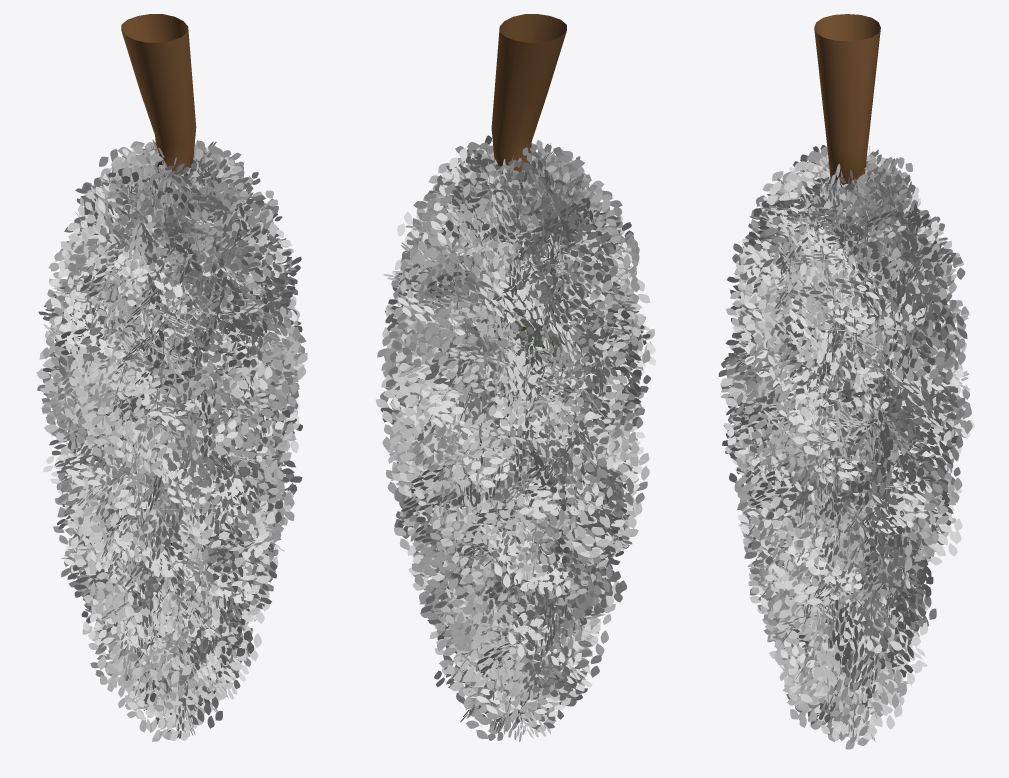
Rendered from cyresstree.fbx.
3 views of the same model, side by side, from view 1: azimuth 30°, elevation 25°; view 2: azimuth 150°, elevation 25°; view 3: azimuth 270°, elevation 25° (orthographic).
Visible parts, largest first — view 1: leaf, RegularTree.003; view 2: leaf, RegularTree.003; view 3: leaf, RegularTree.003.
Part boxes in pixels (<box>): leaf: <box>36,139,307,741</box>; RegularTree.003: <box>121,14,196,179</box>; leaf: <box>375,135,655,741</box>; RegularTree.003: <box>491,14,566,183</box>; leaf: <box>718,145,974,749</box>; RegularTree.003: <box>814,14,880,186</box>.
Size of the model in its own units: 233 by 595 by 219.
